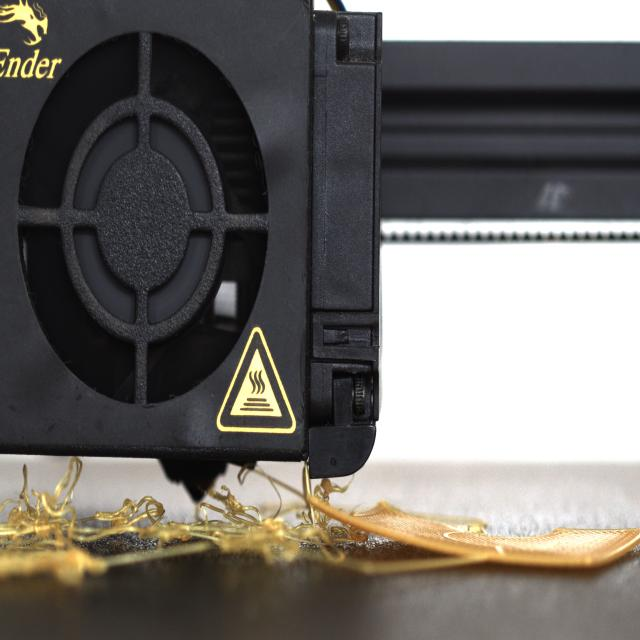Without deffect: (8, 30, 282, 423)
